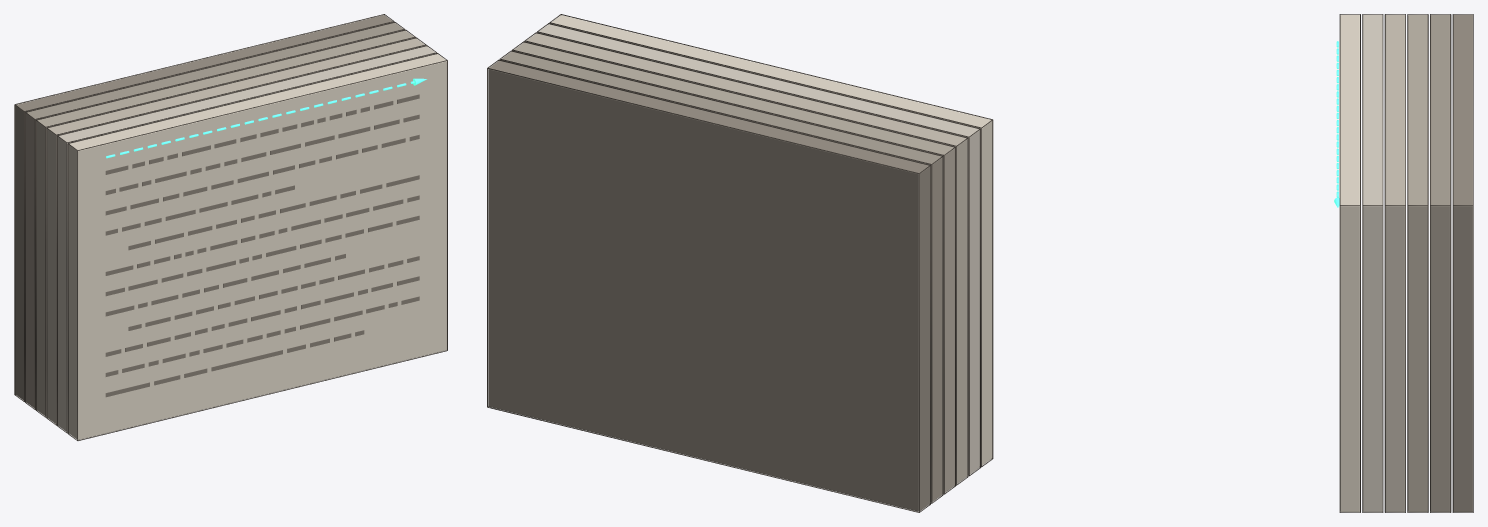
Rendered from estratos.glb.
The picture shows the model from 3 angles, left to right: view 1: azimuth 30°, elevation 25°; view 2: azimuth 150°, elevation 25°; view 3: azimuth 270°, elevation 25°; orthographic projection. The views are drawn at different scales.
Visible parts, largest first — view 1: losa0, renglones, losa3, losa2, losa1, losa4, losa5, contorno0, contorno1, contorno2, contorno3, contorno5 (+4 smaller); view 2: losa5, losa3, losa4, losa1, losa0, losa2, contorno5, contorno4, contorno1, contorno0, contorno2, contorno3; view 3: losa2, losa4, losa0, losa1, losa3, losa5, contorno0, contorno1, contorno2, contorno3, contorno4, contorno5 (+1 smaller).
Part boxes in pixels (bbox=[...]): losa0: bbox=[68, 54, 446, 440]; renglones: bbox=[105, 94, 419, 385]; losa3: bbox=[36, 30, 414, 416]; losa2: bbox=[47, 38, 425, 424]; losa1: bbox=[58, 46, 435, 431]; losa4: bbox=[26, 23, 403, 408]; losa5: bbox=[15, 15, 393, 400]; contorno0: bbox=[67, 53, 447, 440]; contorno1: bbox=[57, 45, 436, 433]; contorno2: bbox=[46, 37, 426, 425]; contorno3: bbox=[35, 29, 415, 417]; contorno5: bbox=[14, 14, 394, 401]; losa5: bbox=[488, 60, 929, 511]; losa3: bbox=[513, 42, 954, 493]; losa4: bbox=[501, 51, 942, 502]; losa1: bbox=[538, 24, 979, 474]; losa0: bbox=[550, 15, 992, 465]; losa2: bbox=[526, 33, 967, 483]; contorno5: bbox=[487, 59, 930, 512]; contorno4: bbox=[499, 50, 943, 503]; contorno1: bbox=[537, 23, 980, 476]; contorno0: bbox=[549, 14, 993, 467]; contorno2: bbox=[524, 32, 968, 485]; contorno3: bbox=[512, 41, 955, 494]; losa2: bbox=[1385, 15, 1405, 511]; losa4: bbox=[1430, 15, 1450, 511]; losa0: bbox=[1340, 15, 1359, 511]; losa1: bbox=[1363, 15, 1382, 511]; losa3: bbox=[1408, 15, 1427, 511]; losa5: bbox=[1453, 15, 1472, 511]; contorno0: bbox=[1339, 14, 1360, 512]; contorno1: bbox=[1362, 14, 1383, 512]; contorno2: bbox=[1384, 14, 1405, 512]; contorno3: bbox=[1407, 14, 1428, 512]; contorno4: bbox=[1430, 14, 1451, 512]; contorno5: bbox=[1452, 14, 1473, 512].
Bounding box in the file's own units: 4.01 × 3.01 × 3.34.
